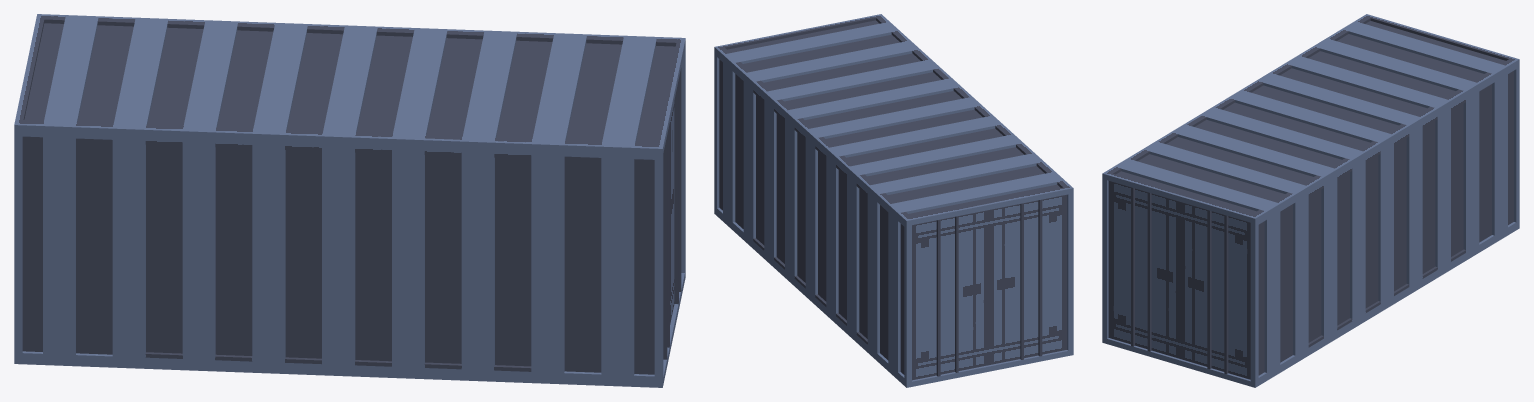
Rendered from vox_cabin.glb.
The picture shows the model from 3 angles, left to right: view 1: azimuth 30°, elevation 25°; view 2: azimuth 150°, elevation 25°; view 3: azimuth 270°, elevation 25°; orthographic projection. The views are drawn at different scales.
Parts seen in each view (by area): view 1: Object_98; view 2: Object_98; view 3: Object_98.
Part boxes in pixels (box(x1,y1,x2,y2)): Object_98: box(14, 14, 685, 387); Object_98: box(714, 14, 1073, 387); Object_98: box(1102, 14, 1519, 387).
Size of the model in its own units: 6.75 by 2.6 by 5.81.
1 material, 1 textured.
